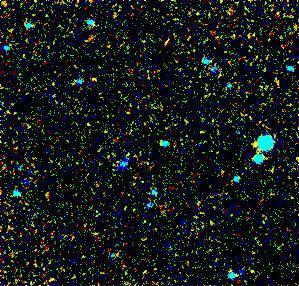star: (240, 130, 270, 160)
